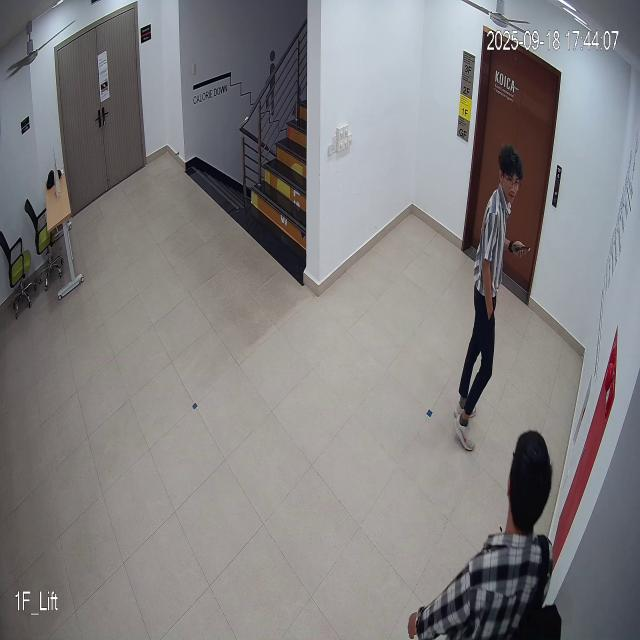face: (499, 140, 526, 210)
